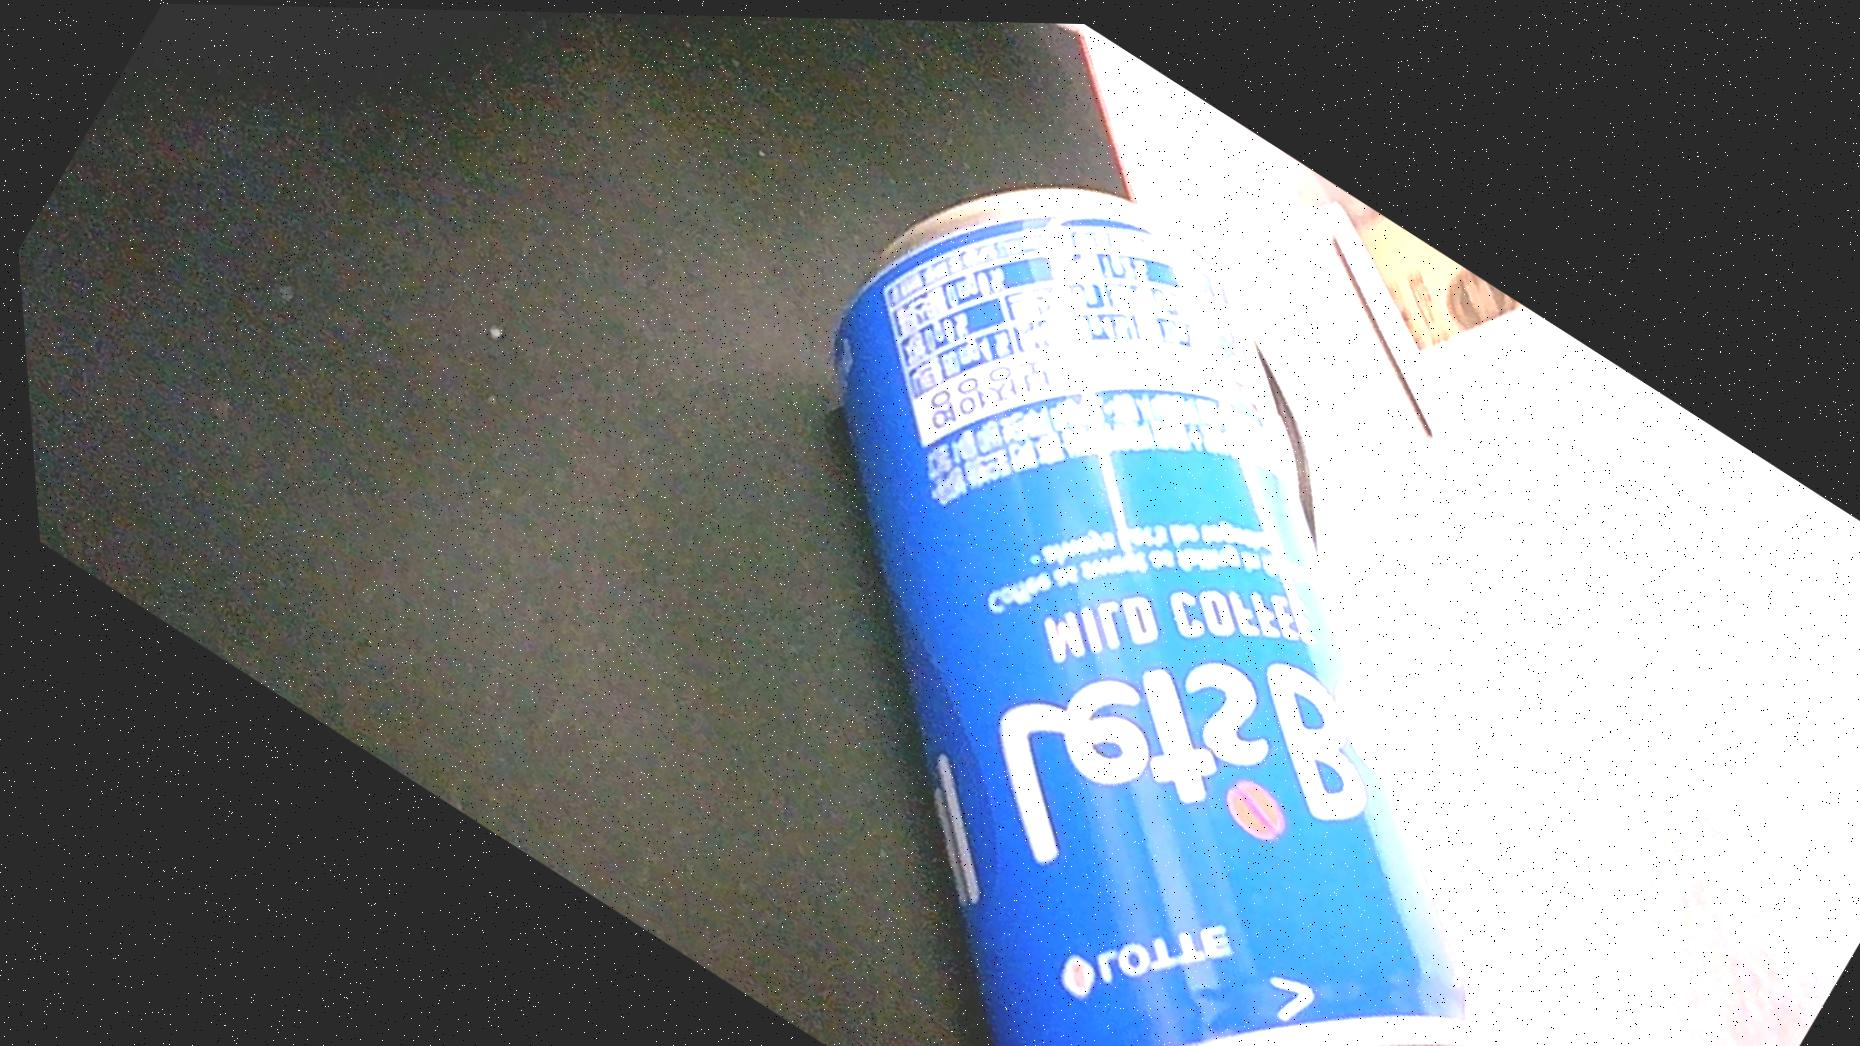letsbe: (482, 80, 1769, 1046)
